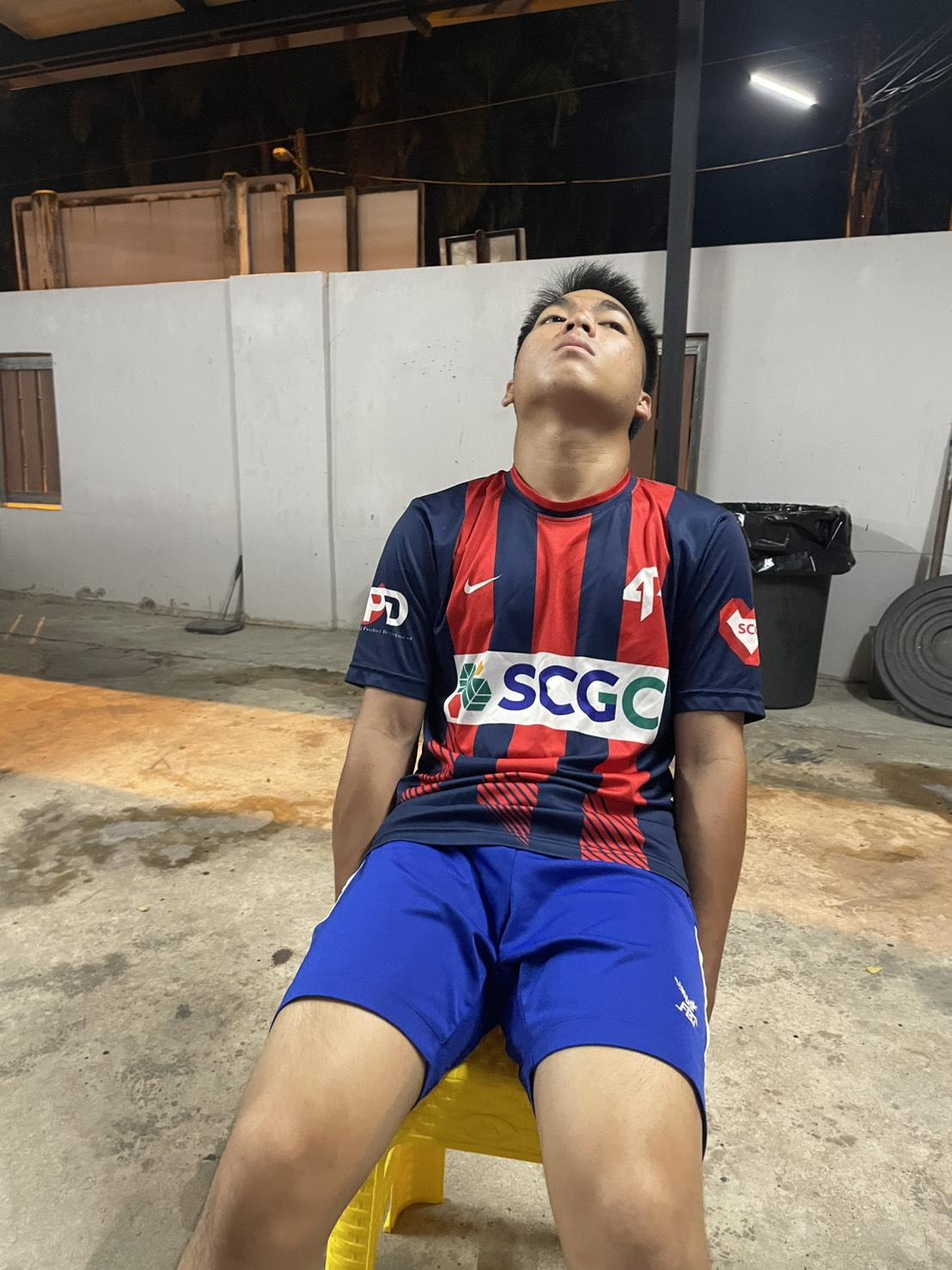BadPosture: (347, 262, 762, 887)
